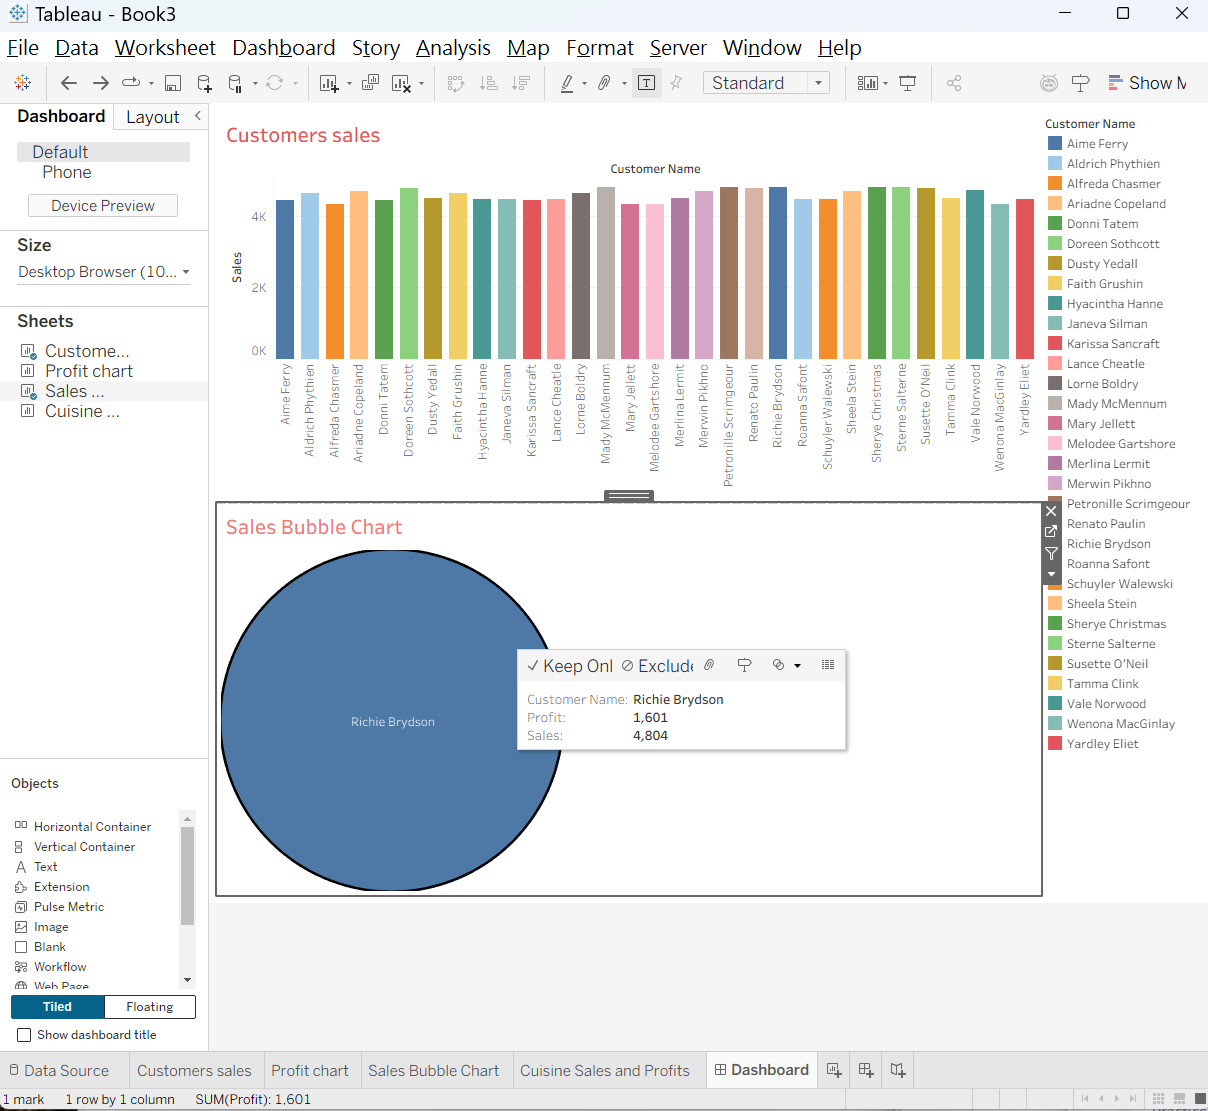

The page's visual inventory and layout, read from the dashboard file:
{"tool":"tableau","page":{"name":"Dashboard","canvas":[1000,800],"ordinal":0},"visuals":[{"type":"worksheet","title":"Customers sales","mark":"Automatic","rows":["Sales"],"cols":["Customer Name"],"box":[8,8,824,392]},{"type":"legend","title":"Customers sales","param":"[federated.01mwg130kne24b17pl58m1k456io].[none:Customer Name:nk]","box":[832,8,160,646]},{"type":"worksheet","title":"Sales Bubble Chart","mark":"Circle","box":[8,400,824,392]}]}

Visuals, with their boxes on the page's 1000x800 design canvas (x1, y1, x2, y2). These are canvas units, not pixel positions in the 1208x1111 screenshot, which may show the page scaled, cropped or inside an application window:
"Customers sales" worksheet: 8 8 832 400
"Customers sales" legend: 832 8 992 654
"Sales Bubble Chart" worksheet (Circle marks): 8 400 832 792
